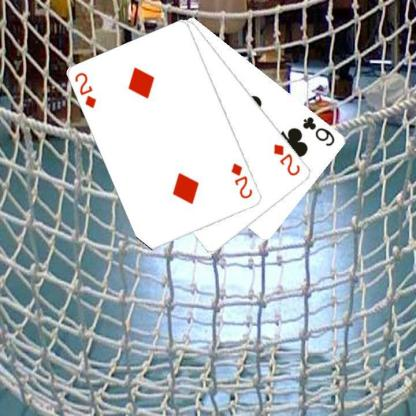2D: (271, 141, 302, 177), (72, 70, 98, 110), (229, 160, 254, 200)
6C: (300, 114, 337, 147)
